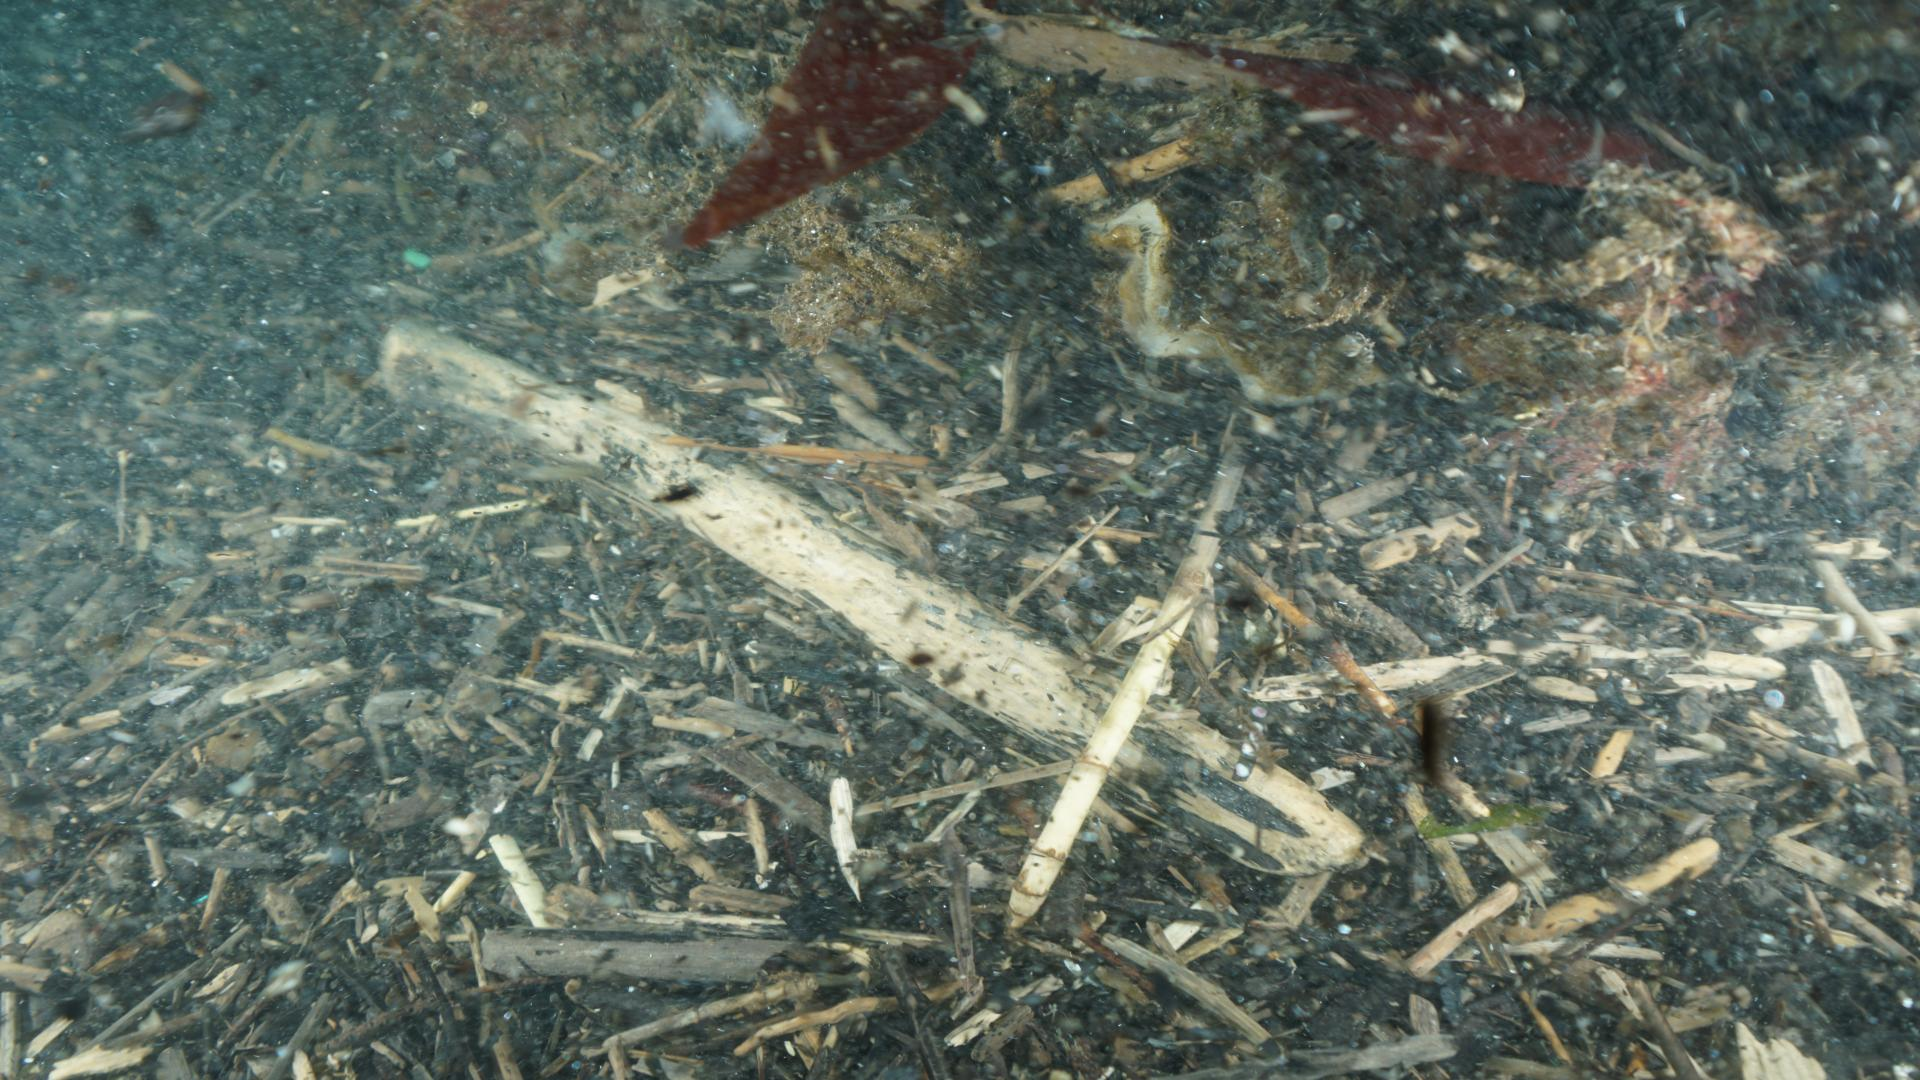wood: (375, 319, 1346, 865), (1001, 450, 1242, 926)
